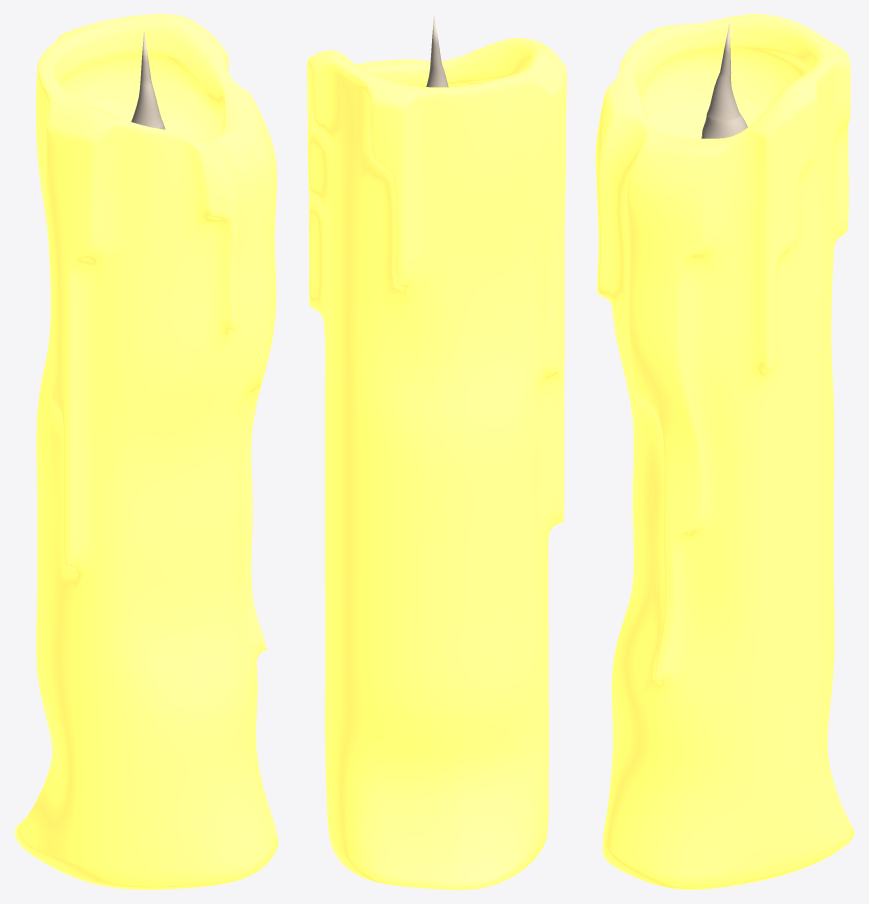
File: svechechka_fixed2.glb
The picture shows the model from 3 angles, left to right: view 1: azimuth 30°, elevation 25°; view 2: azimuth 150°, elevation 25°; view 3: azimuth 270°, elevation 25°; orthographic projection.
Parts seen in each view (by area): view 1: Cylinder001, Sphere001; view 2: Cylinder001, Sphere001; view 3: Cylinder001, Sphere001.
Boxes of the visible parts, x1=… form: Cylinder001: x1=14, y1=14, x2=278, y2=889; Sphere001: x1=131, y1=31, x2=165, y2=129; Cylinder001: x1=307, y1=38, x2=566, y2=889; Sphere001: x1=426, y1=14, x2=448, y2=87; Cylinder001: x1=595, y1=14, x2=854, y2=889; Sphere001: x1=701, y1=23, x2=747, y2=138.
Bounding box in the file's own units: 0.4524 × 1.62 × 0.4647.
